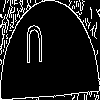U: (25, 25, 44, 73)
